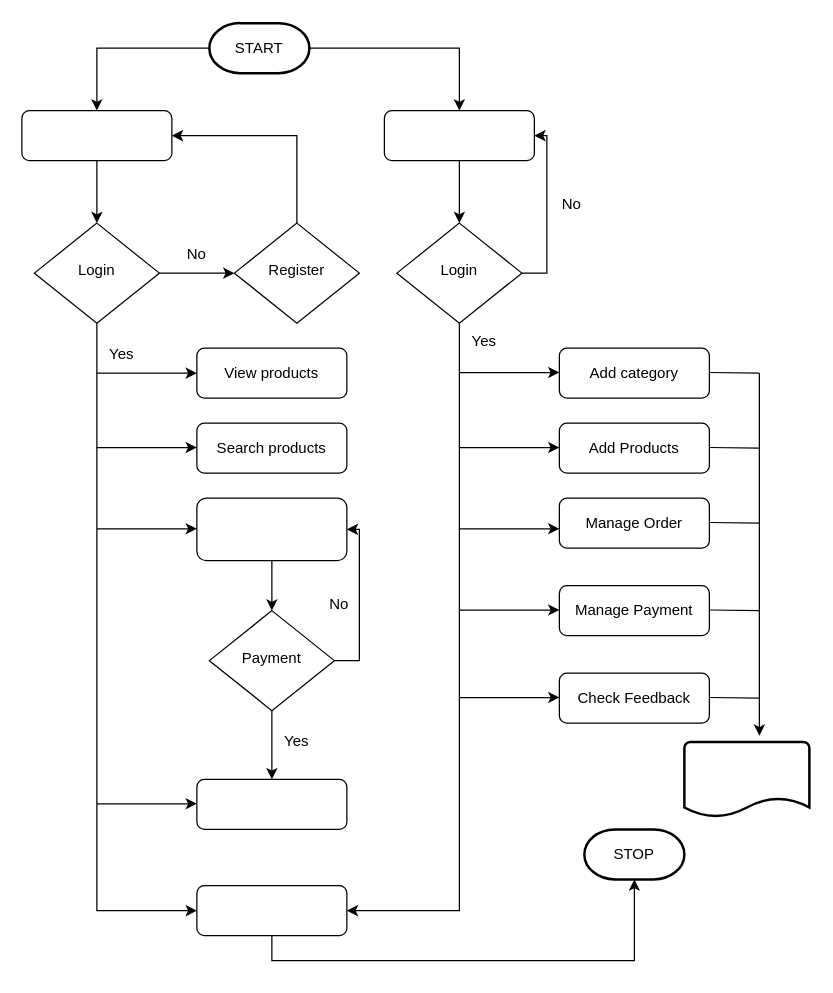
This 833x993 diagram has some shape labels left out. The centre of each missing label's shape, as x and y in pixels:
Admin: [458,135]
Buy Products & Add to cart: [271,529]
Logout: [271,910]
Order Product: [271,803]
Reports: [746,779]
User: [96,135]
